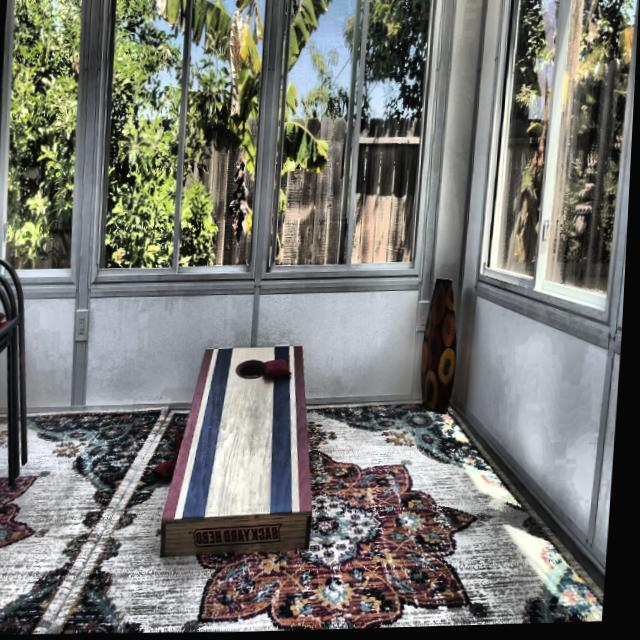board: (189, 346, 313, 515)
hole: (238, 359, 269, 381)
red-bean-bag: (170, 431, 185, 476), (264, 358, 295, 378), (153, 459, 177, 477)
